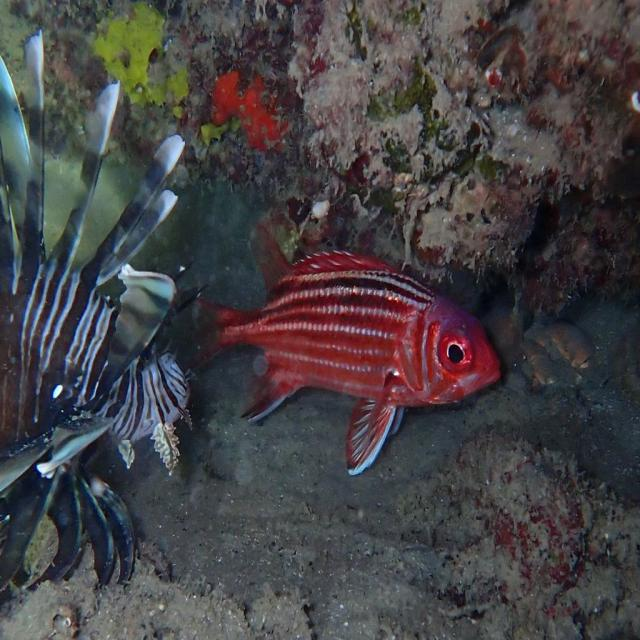Asker Baligi: (154, 210, 540, 480)
